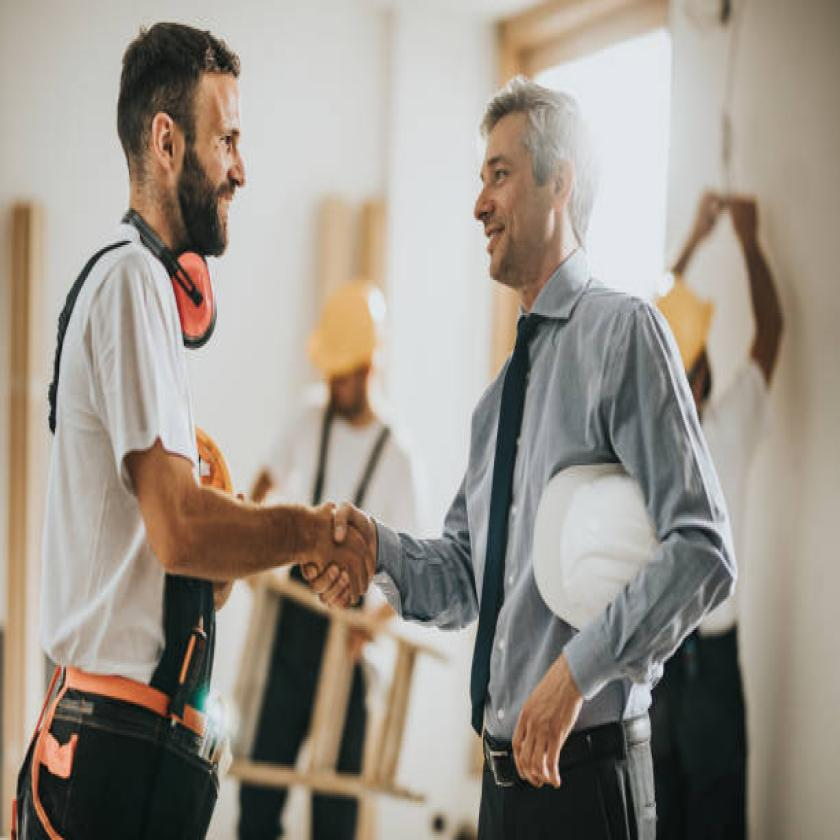Con_casco: (301, 259, 400, 440)
Sin_casco: (89, 0, 283, 354), (470, 45, 622, 306)
